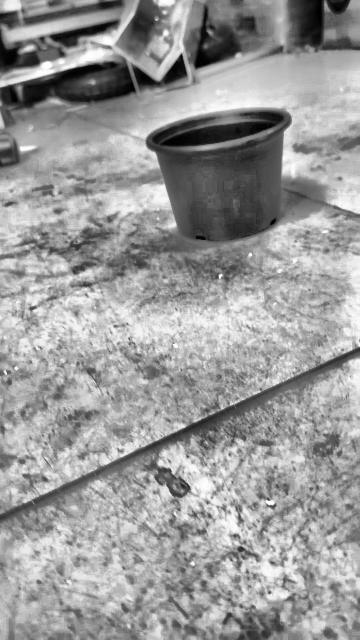pot: (147, 109, 290, 242)
